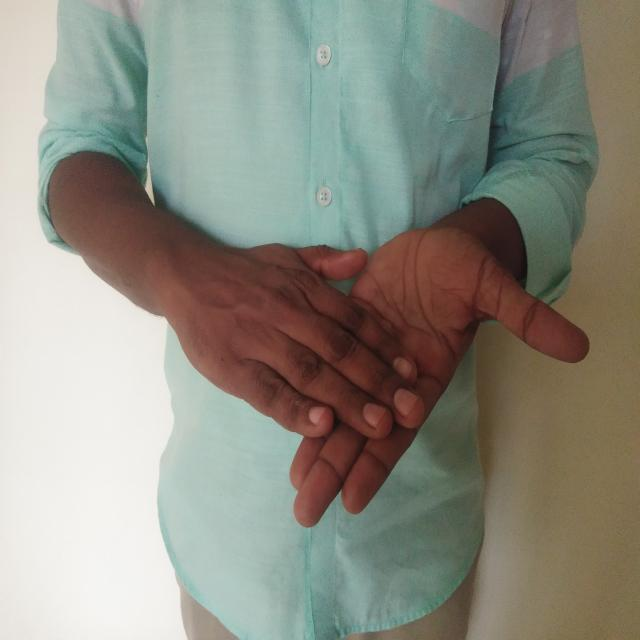H: (159, 202, 600, 543)
